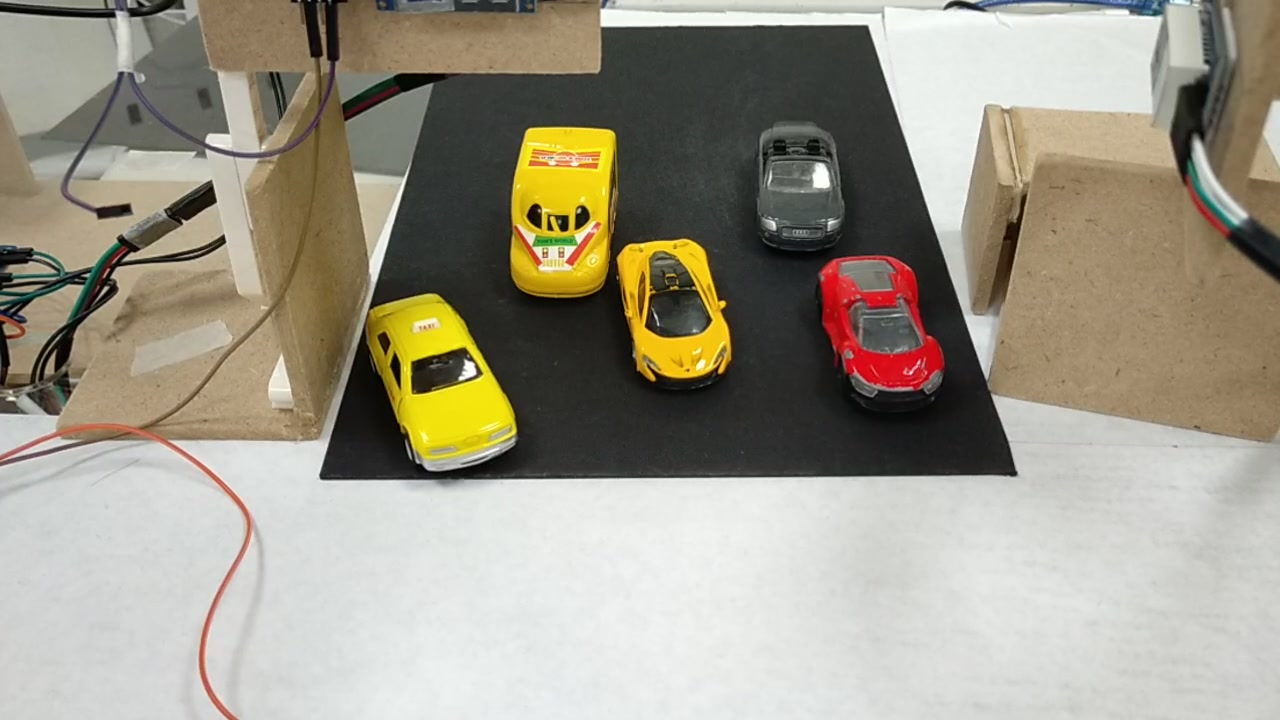car: (360, 299, 515, 477), (821, 256, 942, 415), (611, 236, 728, 391), (752, 124, 843, 249)
